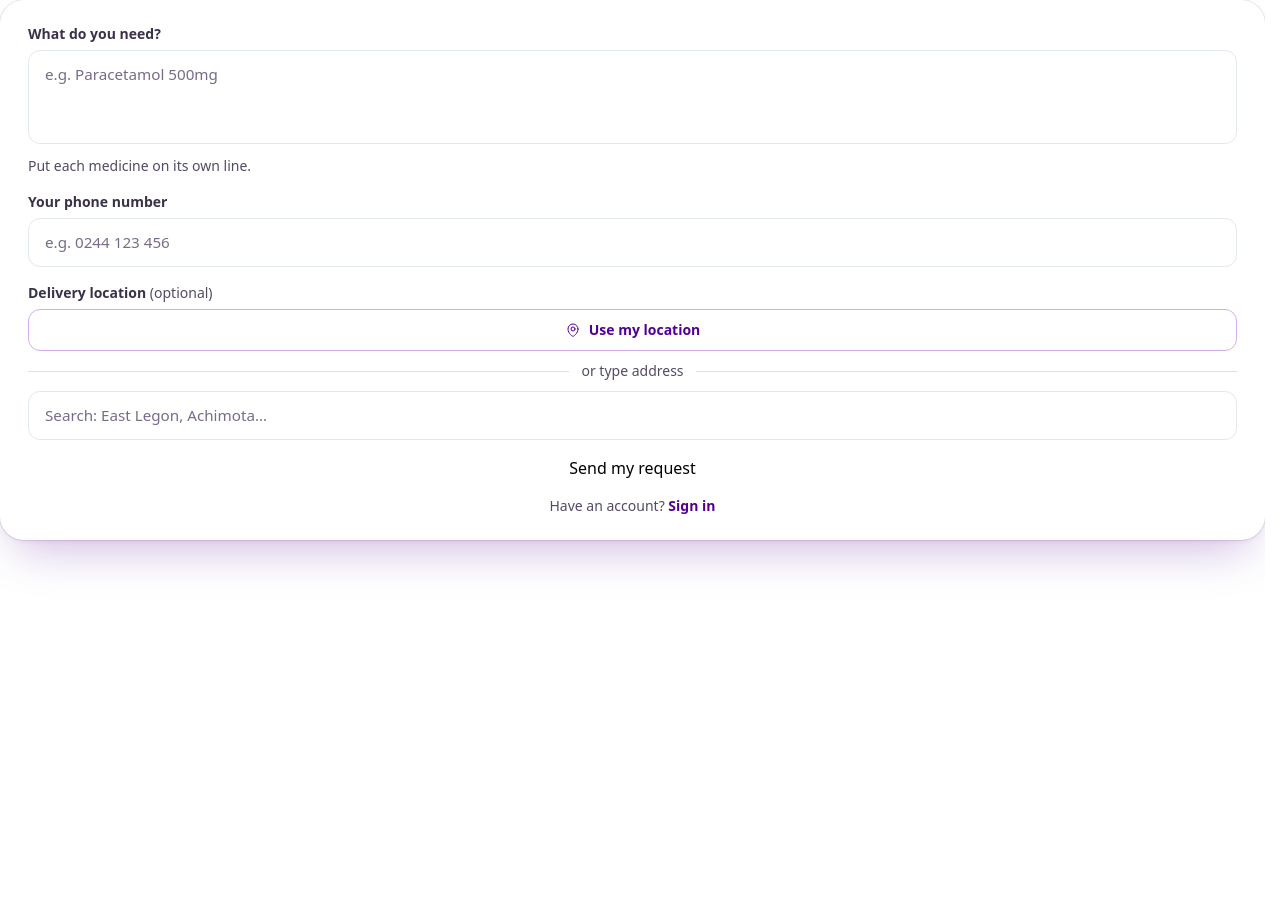
Test: HomeQuickRequest › shows the server message and stays on the form when the request is rejected
The image size is (1280, 900).
Type "Ibuprofen" into the text box with id "hero-medications". click: {"x": 632, "y": 97}
box: [28,50,1237,144]
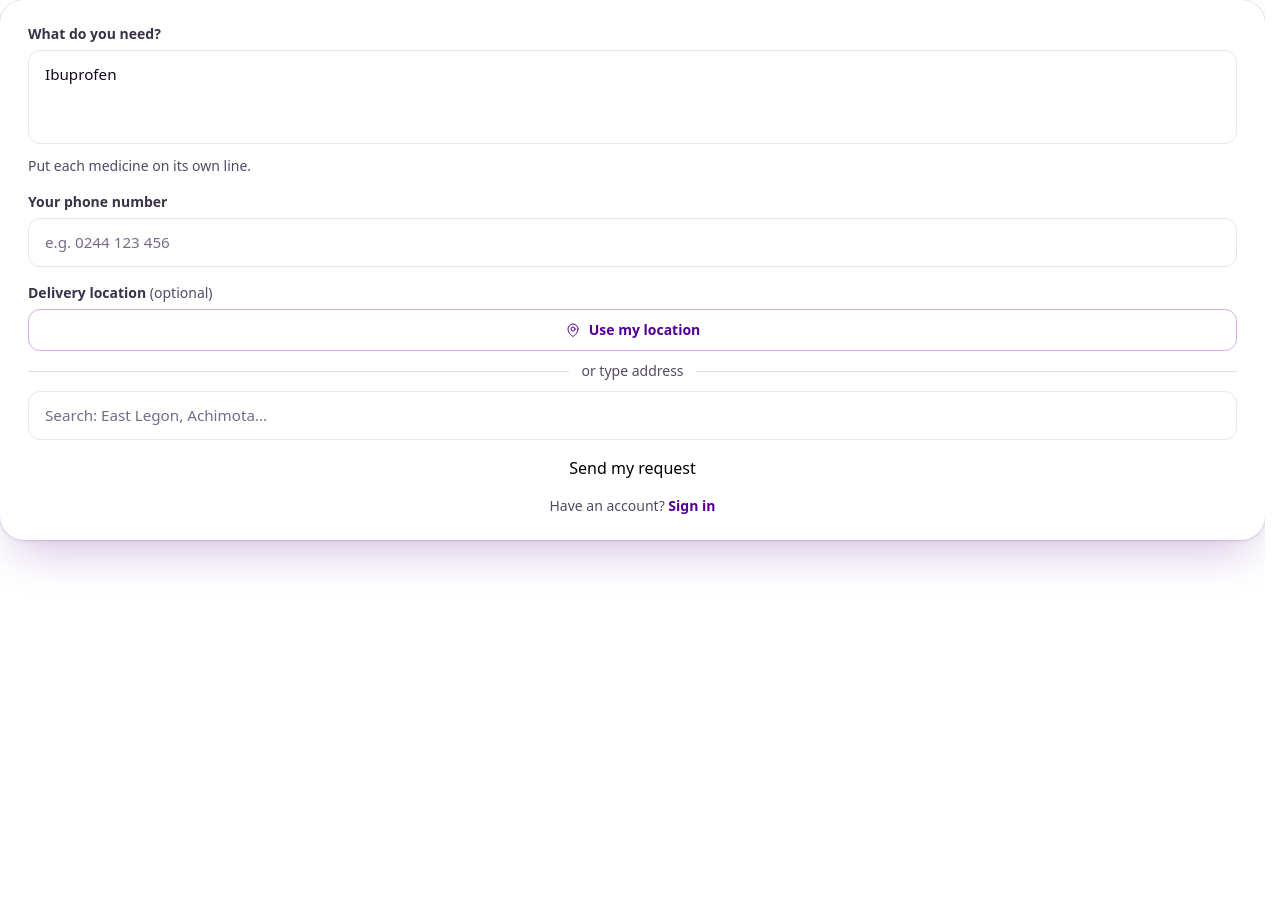
Type "12" into the field with id "hero-phone". click: {"x": 632, "y": 243}
box: [28,218,1237,267]
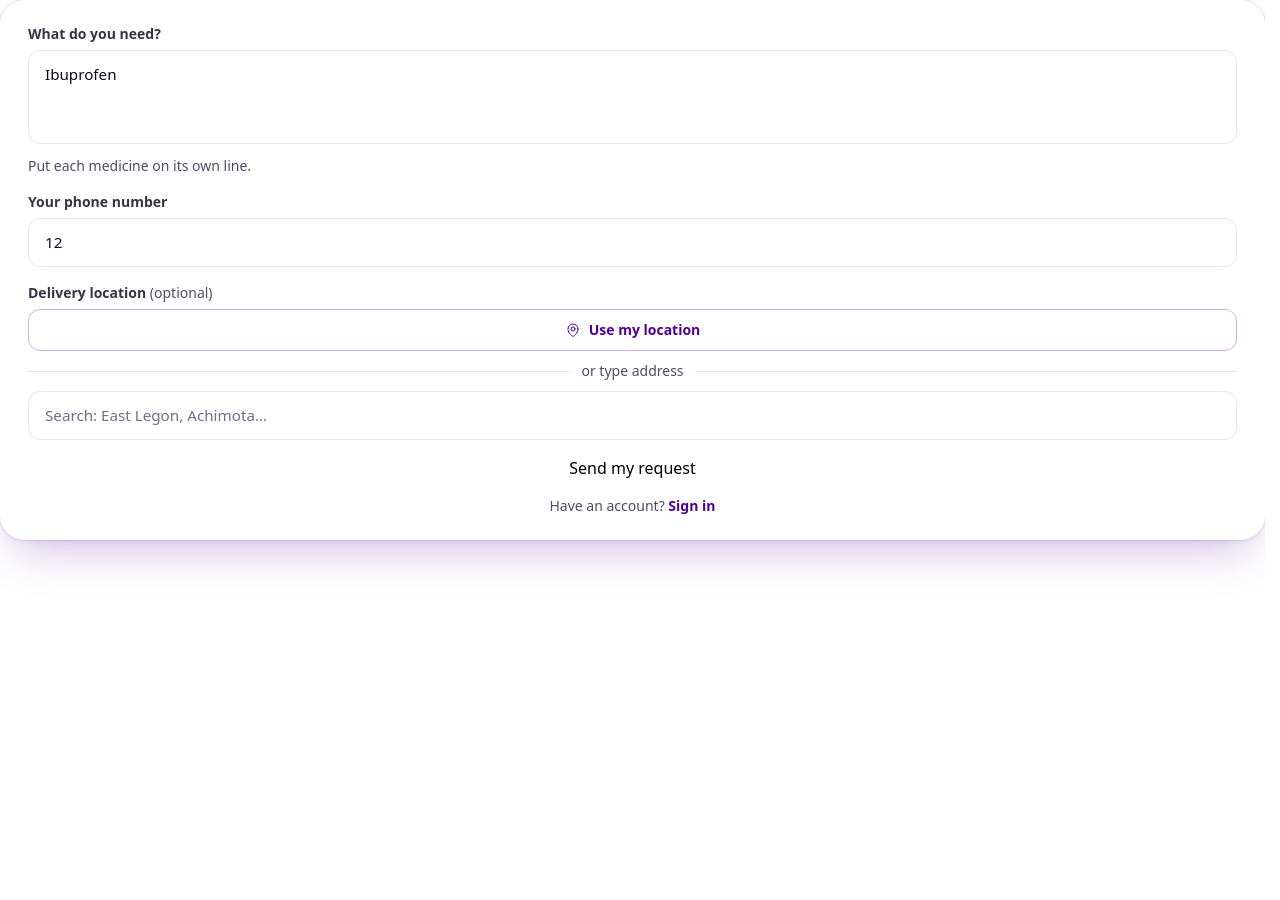
Submit the form, box [0,0,1265,540]
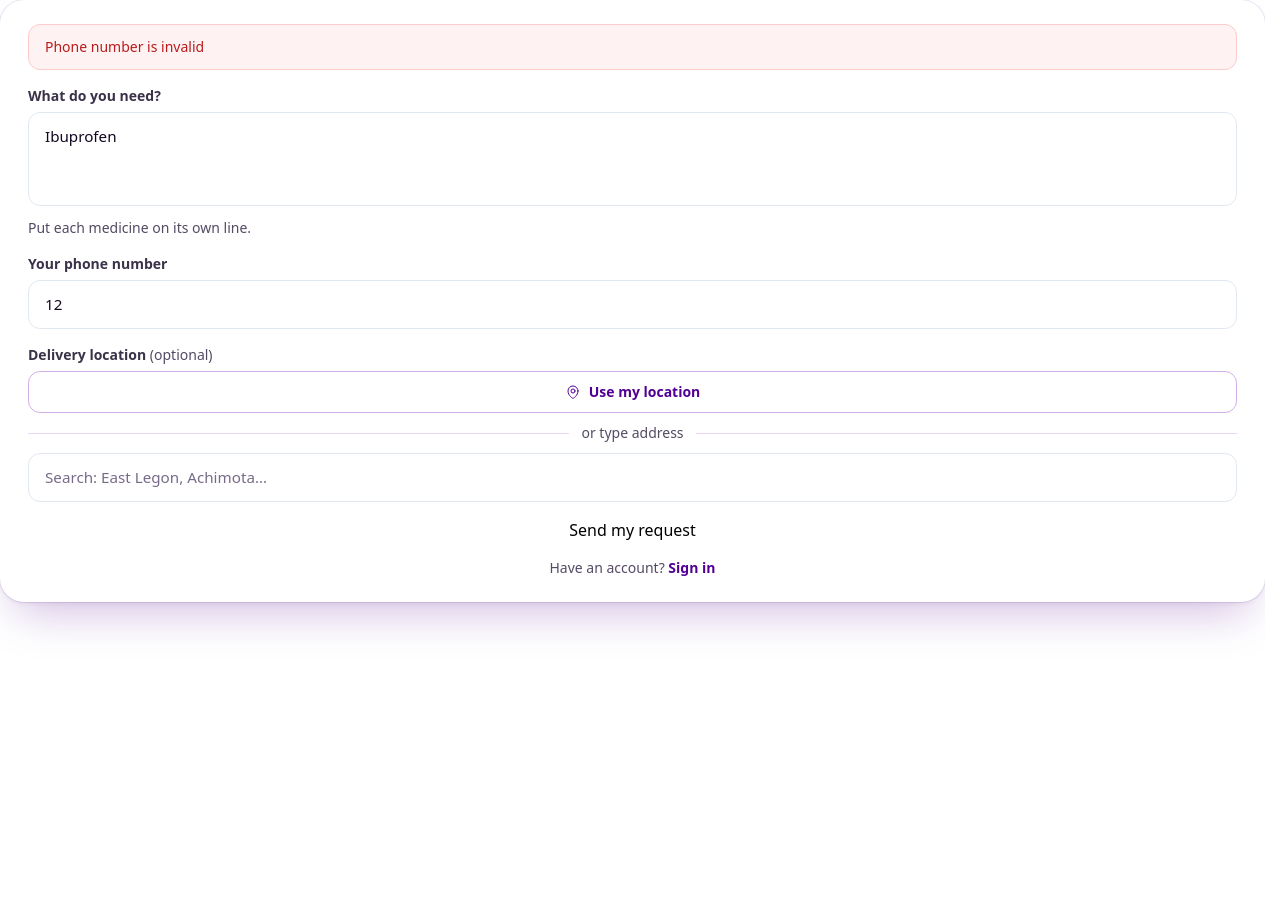
Expected: the text "Phone number is invalid" is shown, [28,24,1237,70]
